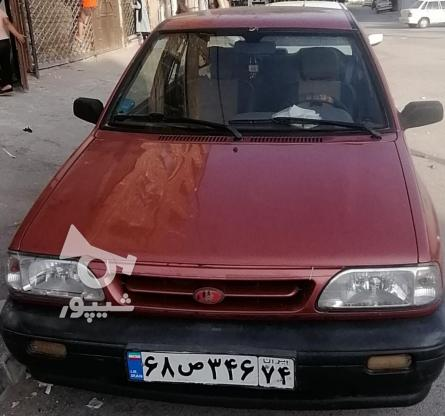car: (122, 352, 298, 389)
